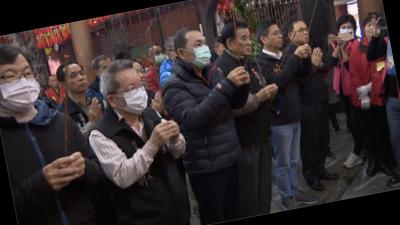with_mask: (114, 78, 151, 118), (181, 36, 214, 72), (151, 45, 169, 68), (338, 22, 356, 40)
without_mask: (65, 67, 91, 93), (235, 31, 256, 59), (291, 24, 311, 46), (267, 27, 285, 49), (365, 19, 381, 38), (49, 77, 61, 89)
